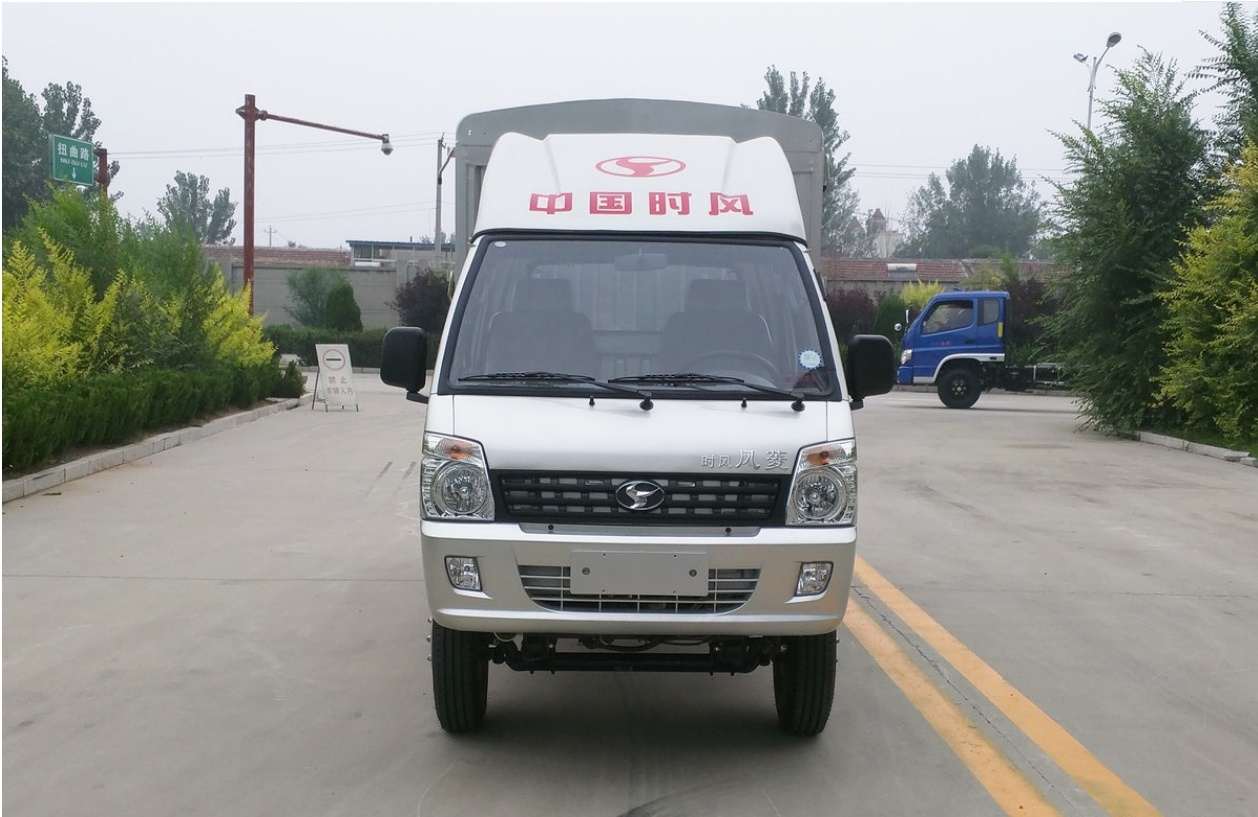truck: (365, 79, 890, 754)
